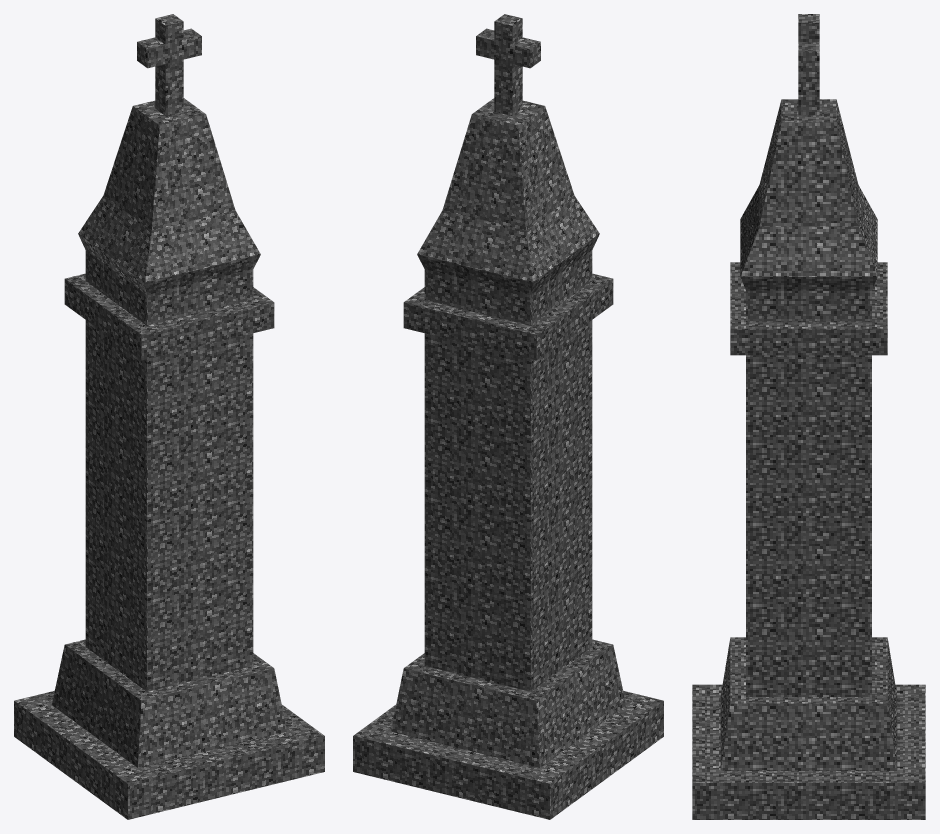
The model's file is crosspillar.glb.
3 renders of one model, left to right at view 1: azimuth 30°, elevation 25°; view 2: azimuth 150°, elevation 25°; view 3: azimuth 270°, elevation 25°, orthographic. The views are drawn at different scales.
Parts seen in each view (by area): view 1: crossColumn; view 2: crossColumn; view 3: crossColumn.
Boxes of the visible parts, bbox=[...] form: crossColumn: bbox=[14, 14, 324, 819]; crossColumn: bbox=[353, 14, 663, 819]; crossColumn: bbox=[692, 14, 925, 819].
Size of the model in its own units: 0.7757 by 2.76 by 0.7757.
1 material, 1 textured.
